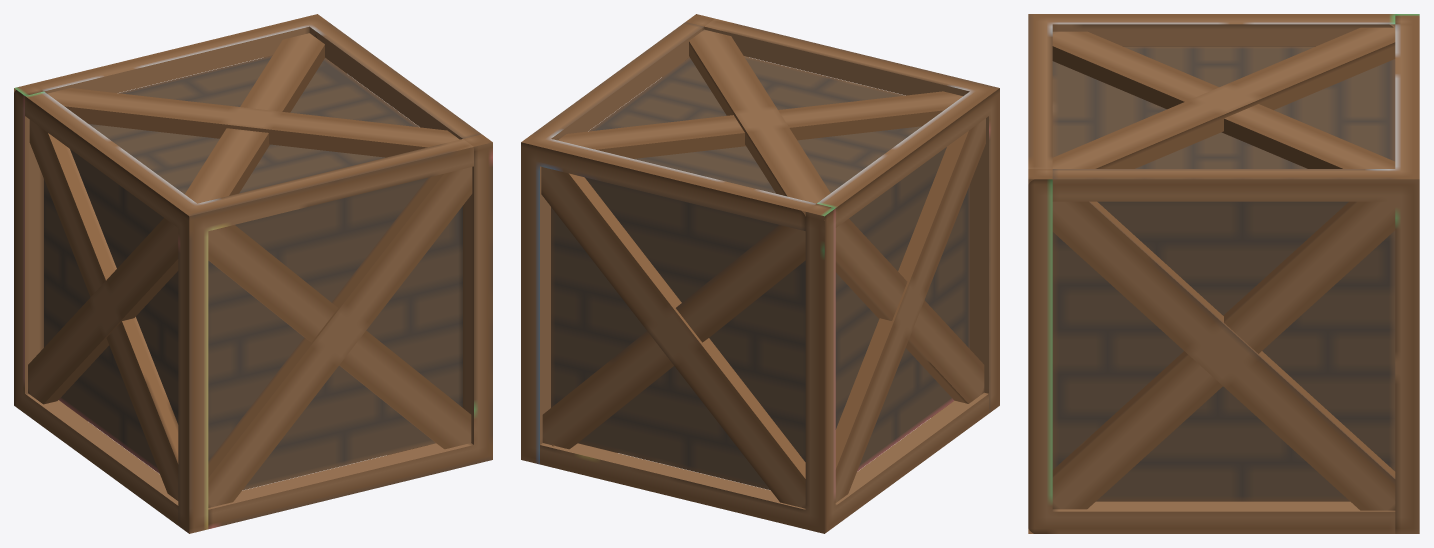
The model's file is Wooden Crate.fbx.
3 views of the same model, side by side, from view 1: azimuth 30°, elevation 25°; view 2: azimuth 150°, elevation 25°; view 3: azimuth 270°, elevation 25° (orthographic). The views are drawn at different scales.
Visible parts, largest first — view 1: mesh, group, cube_2, cube_1, cube_8, cube_7, cube_4, cube_10; view 2: mesh, group, cube_5, cube, cube_4, cube_10, cube_8, cube_7; view 3: mesh, group, cube_3, cube_6, cube_8, cube_10.
Boxes of the visible parts, x1,y1,x2,y2 form: mesh: (44,55,462,490); group: (14,14,492,533); cube_2: (208,167,472,507); cube_1: (208,225,471,449); cube_8: (47,88,459,157); cube_7: (29,120,178,500); cube_4: (28,218,178,404); cube_10: (184,33,324,203); mesh: (551,56,969,489); group: (521,14,999,533); cube_5: (541,167,805,508); cube: (542,225,805,449); cube_4: (835,118,985,502); cube_10: (558,91,962,158); cube_8: (689,29,830,215); cube_7: (824,218,984,403); mesh: (1052,46,1395,501); group: (1028,14,1419,533); cube_3: (1052,201,1395,510); cube_6: (1052,201,1395,509); cube_8: (1052,24,1395,168); cube_10: (1052,31,1395,168).
Size of the model in its own units: 100 by 100 by 100.
1 material, 1 textured.
